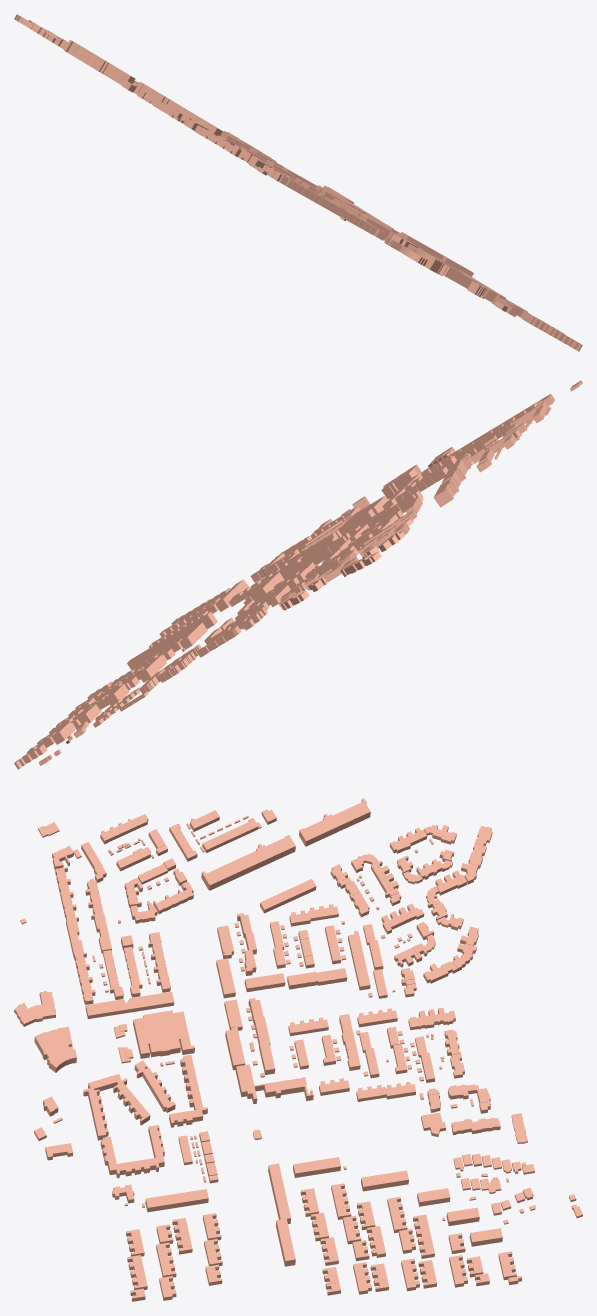
The picture shows the model from 3 angles, top to bottom: view 1: azimuth 30°, elevation 25°; view 2: azimuth 150°, elevation 25°; view 3: azimuth 270°, elevation 25°; orthographic projection. The views are drawn at different scales.
Size of the model in its own units: 507 by 388 by 632.
